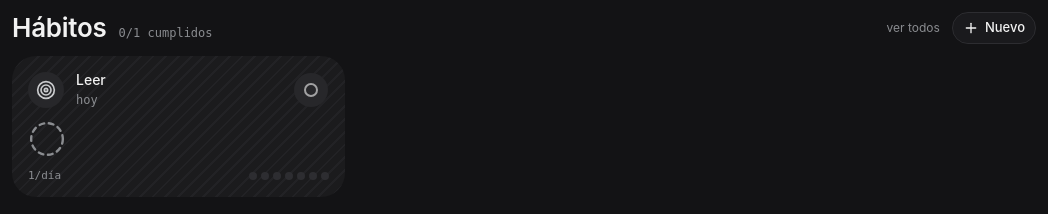
Test: check: click en el hero marca y el label dice hecho
The image size is (1048, 214).
expect the text "Leer" is shown: met, box [76,71,106,88]
Click the button named "Registrar Leer". click: (311, 90)
box: [293,72,329,108]
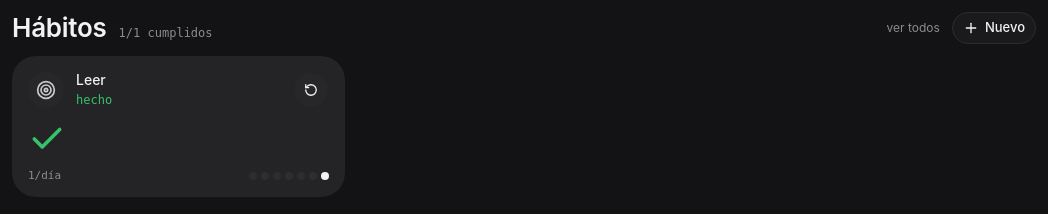
expect the text "hecho" is shown: met, box [76,94,112,106]
